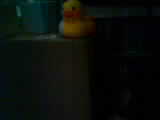duck: (51, 6, 88, 42)
